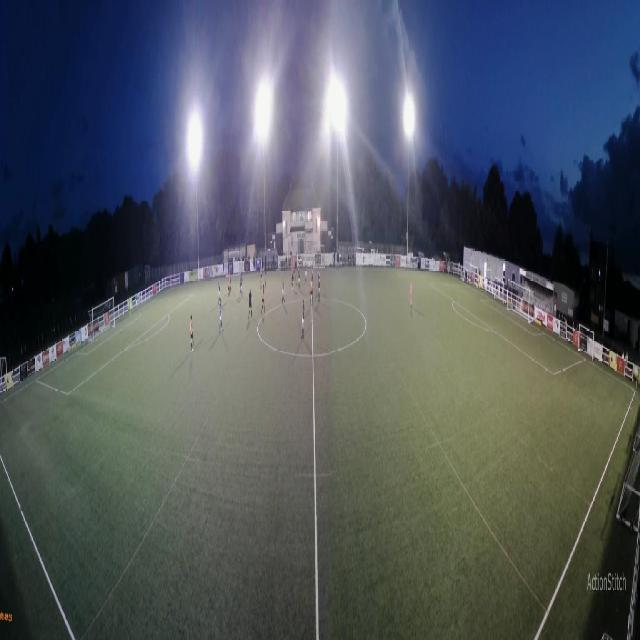ball: (140, 312, 141, 317)
player: (301, 299, 305, 339), (190, 315, 194, 353), (219, 298, 223, 334), (249, 288, 253, 320), (261, 285, 265, 314), (409, 279, 413, 308), (227, 277, 231, 301), (310, 276, 313, 307), (282, 277, 285, 306), (318, 274, 321, 303), (218, 279, 221, 305), (293, 257, 296, 283), (298, 266, 301, 291), (241, 274, 244, 298), (311, 264, 314, 288), (229, 270, 232, 292), (304, 263, 307, 284), (129, 297, 132, 317), (291, 265, 293, 292), (239, 277, 241, 298), (260, 265, 262, 284), (318, 265, 320, 282), (265, 265, 266, 287)
